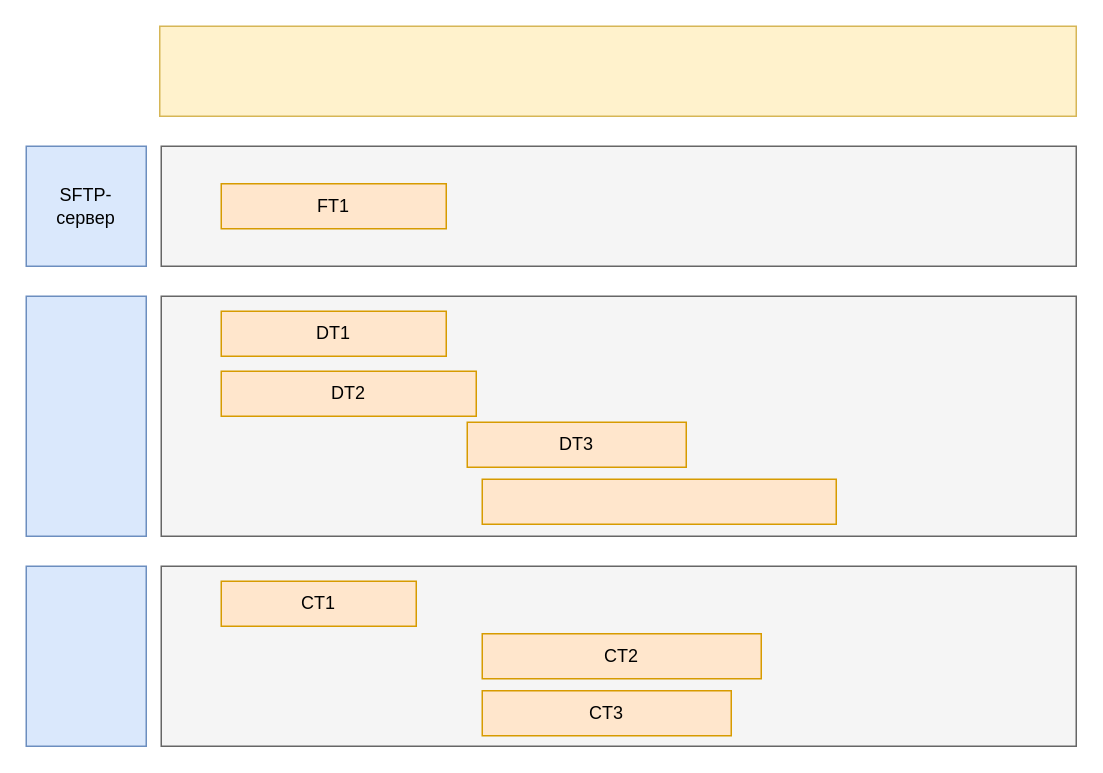
The diagram is 1103 pixels wide and 773 high, and some of its shapes have lost their labels. Each missing label, with the centre of its shape:
DT4: pixel 658 501
Q3: pixel 617 70
Система кол-центра: pixel 85 655
Система по работе с депозитами: pixel 85 415
